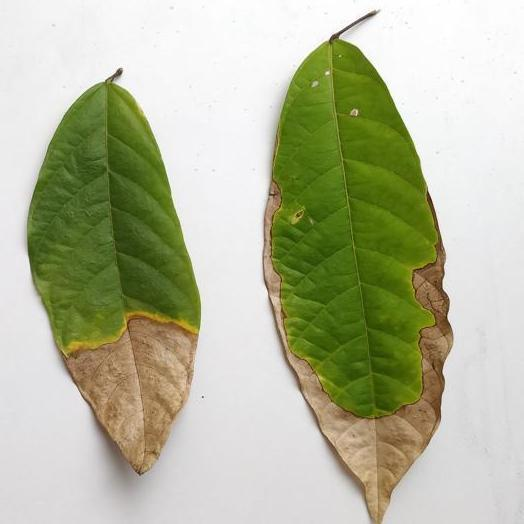Potassium: (264, 10, 452, 523), (29, 70, 200, 473)
